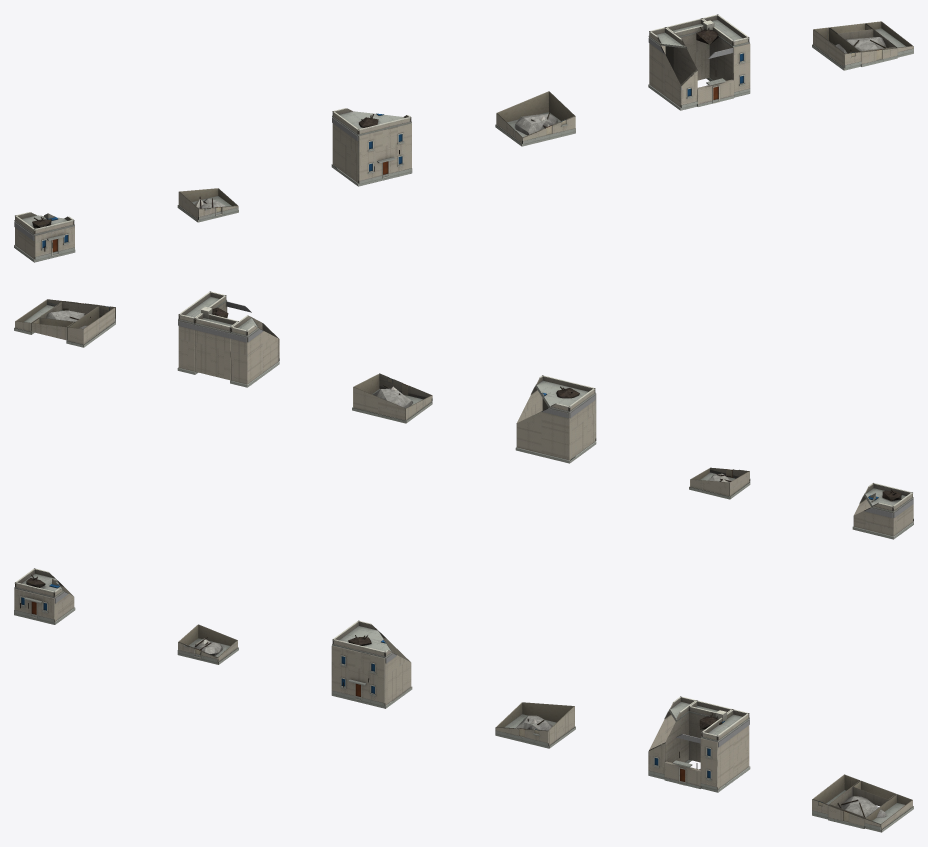
File: modern-indic-houses-damage.glb
3 views of the same model, one above another, from view 1: azimuth 30°, elevation 25°; view 2: azimuth 150°, elevation 25°; view 3: azimuth 330°, elevation 25° (orthographic).
Visible parts, largest first — view 1: LOD0.004, LOD0.002, LOD0.005, LOD0.003, LOD0, LOD0.001; view 2: LOD0.004, LOD0.002, LOD0.005, LOD0.003, LOD0, LOD0.001; view 3: LOD0.004, LOD0.002, LOD0.005, LOD0.003, LOD0, LOD0.001.
Part boxes in pixels (left/top/right/bottom): LOD0.004: left=648, top=14, right=750, bottom=110; LOD0.002: left=331, top=108, right=412, bottom=186; LOD0.005: left=812, top=21, right=913, bottom=70; LOD0.003: left=495, top=91, right=575, bottom=146; LOD0: left=14, top=212, right=75, bottom=262; LOD0.001: left=177, top=188, right=238, bottom=222; LOD0.004: left=177, top=291, right=279, bottom=387; LOD0.002: left=515, top=375, right=596, bottom=463; LOD0.005: left=14, top=299, right=115, bottom=347; LOD0.003: left=352, top=373, right=432, bottom=423; LOD0: left=852, top=483, right=913, bottom=539; LOD0.001: left=689, top=467, right=750, bottom=499; LOD0.004: left=648, top=696, right=750, bottom=792; LOD0.002: left=331, top=620, right=412, bottom=708; LOD0.005: left=812, top=774, right=913, bottom=832; LOD0.003: left=495, top=702, right=575, bottom=748; LOD0: left=14, top=568, right=75, bottom=624; LOD0.001: left=177, top=624, right=238, bottom=664.
Size of what is drawn, in the model's own units: 16.02 by 1.04 by 1.09.
Materials: 2 (2 with a texture image).
